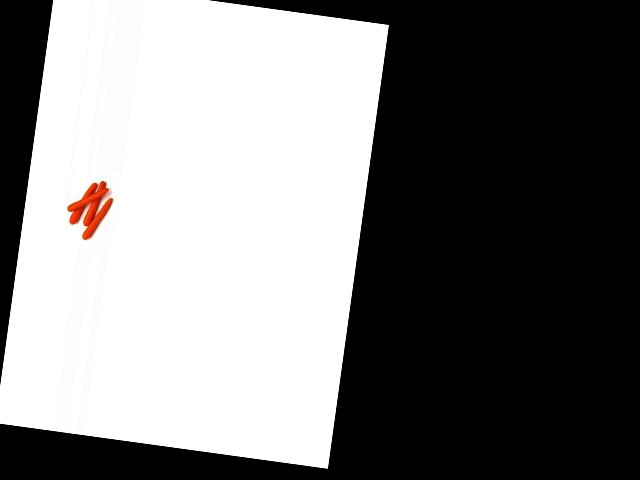carrot: (66, 179, 96, 229)
